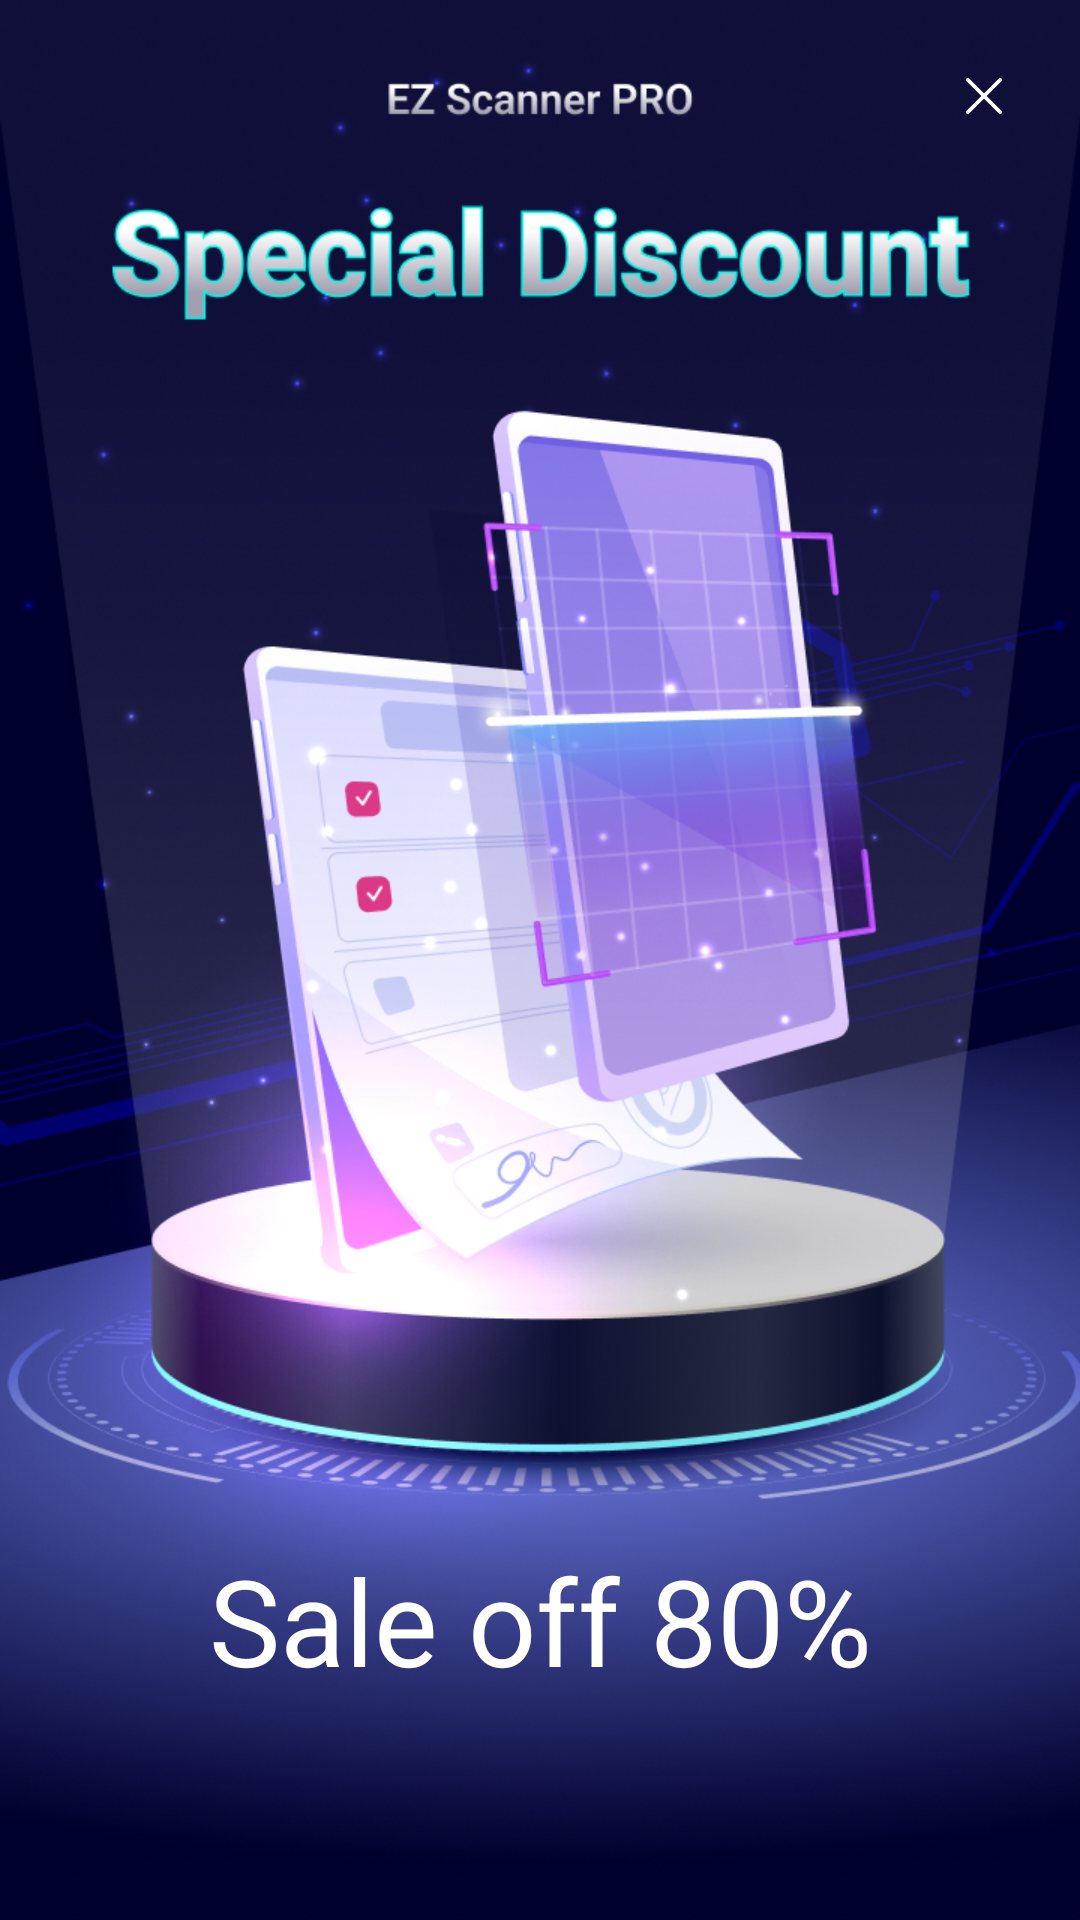

Locate icon controls on the screen. Image size 1080 × 1920, boxes as (x1, y1, x2, y2).
iap close: (966, 78, 1002, 114)
